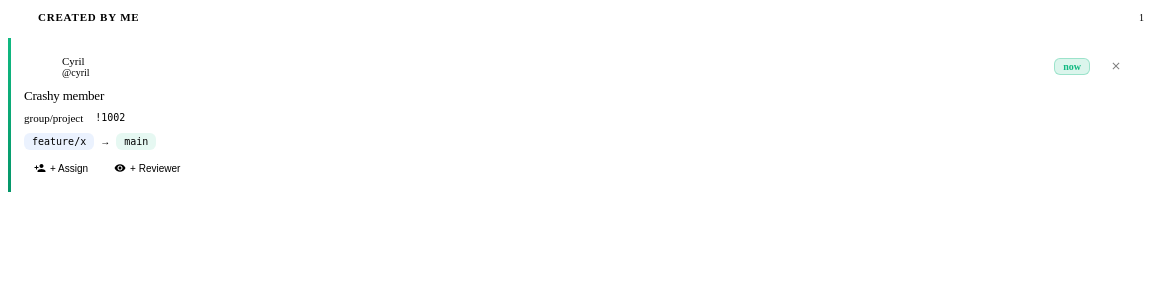
Test: MergeRequestsTab › renders a member with an empty name instead of crashing (bug-lot fix #8)
This screenshot has width=1152, height=299.
Expected: the text "Crashy member" is shown, 24,88 -> 104,103
What coordinates should you click on to do the following:
click the button "+ Assign"
I would click on:
 (61, 168)
Its box is 24,158 -> 98,178.
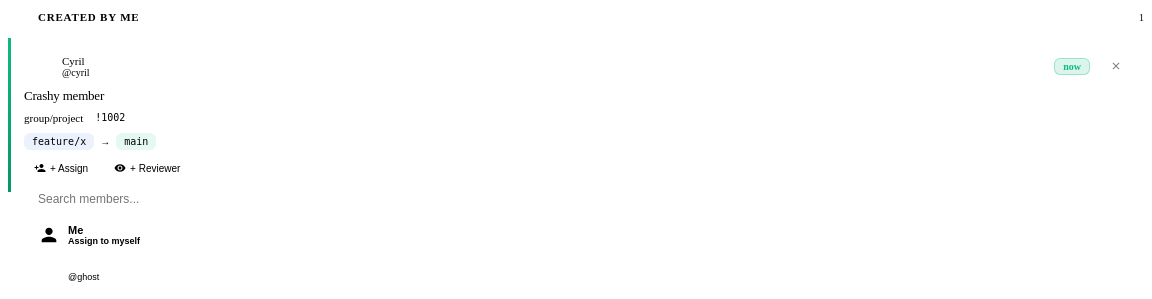
Expected: the text "@ghost" is shown, 68,272 -> 99,282
